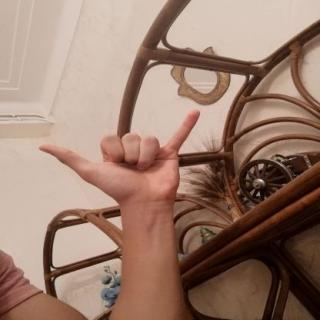YA: (24, 101, 213, 214)
